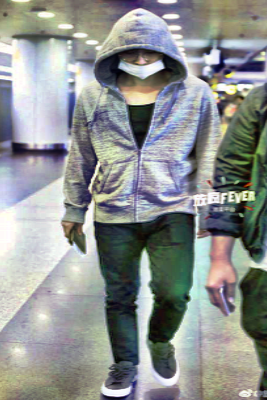mask_weared_incorrect: (117, 47, 165, 80)
